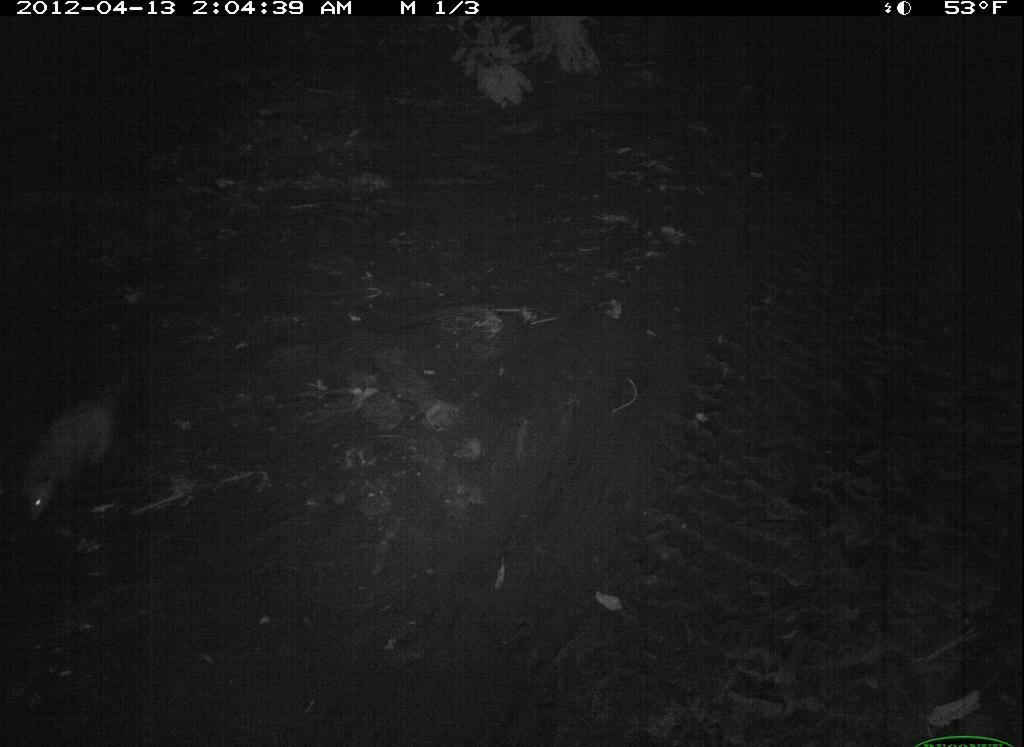opossum: (15, 358, 155, 533)
